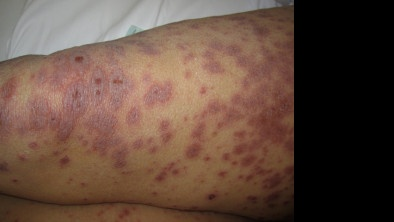SJS-TEN: (0, 3, 294, 217)
